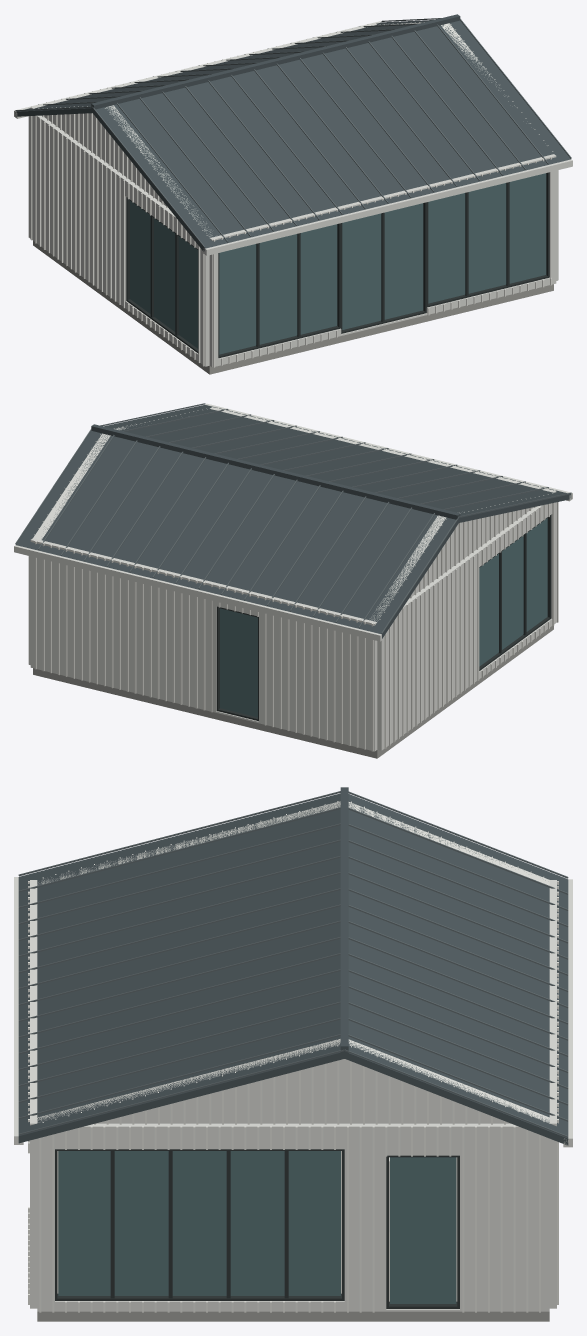
The model's file is Halfway-design-unplaced.glb.
3 renders of one model, top to bottom at view 1: azimuth 30°, elevation 25°; view 2: azimuth 150°, elevation 25°; view 3: azimuth 270°, elevation 25°, orthographic. The views are drawn at different scales.
Parts seen in each view (by area): view 1: UNPLACED HALFWAY | east roof surface - estimated pitch, UNPLACED HALFWAY | east left glazing glass, UNPLACED HALFWAY | east right glazing glass, UNPLACED HALFWAY | North gable facade wall2, UNPLACED HALFWAY | east paired doors glass, UNPLACED HALFWAY | north three-panel glazing glass, UNPLACED HALFWAY | west roof surface - estimated pitch, UNPLACED HALFWAY | Floor datum - no surveyed foundation, UNPLACED HALFWAY | east light fascia, UNPLACED HALFWAY | Ridge cap, UNPLACED HALFWAY | North asymmetric gable, UNPLACED HALFWAY | East long glazed facade wall0 (+14 smaller); view 2: UNPLACED HALFWAY | west roof surface - estimated pitch, UNPLACED HALFWAY | West service facade wall2, UNPLACED HALFWAY | east roof surface - estimated pitch, UNPLACED HALFWAY | West service facade wall0, UNPLACED HALFWAY | North gable facade wall2, UNPLACED HALFWAY | north three-panel glazing glass, UNPLACED HALFWAY | west service door glass, UNPLACED HALFWAY | Floor datum - no surveyed foundation, UNPLACED HALFWAY | west light fascia, UNPLACED HALFWAY | Ridge cap, UNPLACED HALFWAY | North asymmetric gable, UNPLACED HALFWAY | South asymmetric gable (+5 smaller); view 3: UNPLACED HALFWAY | east roof surface - estimated pitch, UNPLACED HALFWAY | west roof surface - estimated pitch, UNPLACED HALFWAY | south glazed frontage glass, UNPLACED HALFWAY | South asymmetric gable, UNPLACED HALFWAY | South gable facade wall4, UNPLACED HALFWAY | south side door glass, UNPLACED HALFWAY | South gable facade wall2, UNPLACED HALFWAY | South gable facade wall1.001, UNPLACED HALFWAY | Floor datum - no surveyed foundation, UNPLACED HALFWAY | South gable facade wall1, UNPLACED HALFWAY | North asymmetric gable, UNPLACED HALFWAY | South gable facade wall0 (+28 smaller).
Boxes of the visible parts, bbox=[...] form: UNPLACED HALFWAY | east roof surface - estimated pitch: bbox=[92, 20, 570, 251]; UNPLACED HALFWAY | east left glazing glass: bbox=[219, 224, 337, 354]; UNPLACED HALFWAY | east right glazing glass: bbox=[428, 173, 546, 303]; UNPLACED HALFWAY | North gable facade wall2: bbox=[28, 115, 129, 307]; UNPLACED HALFWAY | east paired doors glass: bbox=[342, 203, 423, 329]; UNPLACED HALFWAY | north three-panel glazing glass: bbox=[130, 200, 198, 348]; UNPLACED HALFWAY | west roof surface - estimated pitch: bbox=[15, 20, 432, 116]; UNPLACED HALFWAY | Floor datum - no surveyed foundation: bbox=[33, 241, 553, 374]; UNPLACED HALFWAY | east light fascia: bbox=[203, 159, 572, 255]; UNPLACED HALFWAY | Ridge cap: bbox=[91, 14, 460, 109]; UNPLACED HALFWAY | North asymmetric gable: bbox=[44, 105, 212, 237]; UNPLACED HALFWAY | East long glazed facade wall0: bbox=[209, 236, 218, 367]; UNPLACED HALFWAY | west roof surface - estimated pitch: bbox=[16, 431, 458, 638]; UNPLACED HALFWAY | West service facade wall2: bbox=[30, 538, 217, 712]; UNPLACED HALFWAY | east roof surface - estimated pitch: bbox=[104, 405, 571, 522]; UNPLACED HALFWAY | West service facade wall0: bbox=[259, 594, 377, 751]; UNPLACED HALFWAY | North gable facade wall2: bbox=[377, 551, 477, 750]; UNPLACED HALFWAY | north three-panel glazing glass: bbox=[479, 518, 547, 666]; UNPLACED HALFWAY | west service door glass: bbox=[220, 608, 257, 717]; UNPLACED HALFWAY | Floor datum - no surveyed foundation: bbox=[33, 626, 553, 758]; UNPLACED HALFWAY | west light fascia: bbox=[14, 545, 383, 641]; UNPLACED HALFWAY | Ridge cap: bbox=[91, 424, 460, 519]; UNPLACED HALFWAY | North asymmetric gable: bbox=[370, 507, 533, 621]; UNPLACED HALFWAY | South asymmetric gable: bbox=[33, 424, 136, 539]; UNPLACED HALFWAY | east roof surface - estimated pitch: bbox=[18, 793, 344, 1143]; UNPLACED HALFWAY | west roof surface - estimated pitch: bbox=[344, 794, 568, 1145]; UNPLACED HALFWAY | south glazed frontage glass: bbox=[58, 1151, 340, 1295]; UNPLACED HALFWAY | South asymmetric gable: bbox=[37, 1039, 549, 1123]; UNPLACED HALFWAY | South gable facade wall4: bbox=[460, 1123, 549, 1311]; UNPLACED HALFWAY | south side door glass: bbox=[390, 1157, 456, 1303]; UNPLACED HALFWAY | South gable facade wall2: bbox=[344, 1123, 386, 1311]; UNPLACED HALFWAY | South gable facade wall1.001: bbox=[55, 1123, 344, 1149]; UNPLACED HALFWAY | Floor datum - no surveyed foundation: bbox=[37, 1151, 549, 1321]; UNPLACED HALFWAY | South gable facade wall1: bbox=[55, 1301, 344, 1311]; UNPLACED HALFWAY | North asymmetric gable: bbox=[38, 801, 549, 885]; UNPLACED HALFWAY | South gable facade wall0: bbox=[37, 1134, 54, 1311].
Size of the model in its own units: 7.68 by 3.9 by 6.98.
